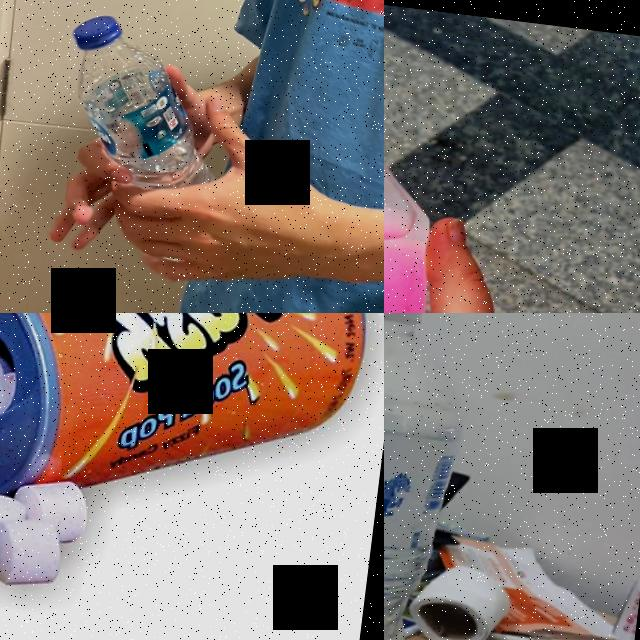bottle: (53, 11, 228, 210), (384, 313, 480, 640), (384, 43, 461, 313)
can: (0, 313, 382, 549)
